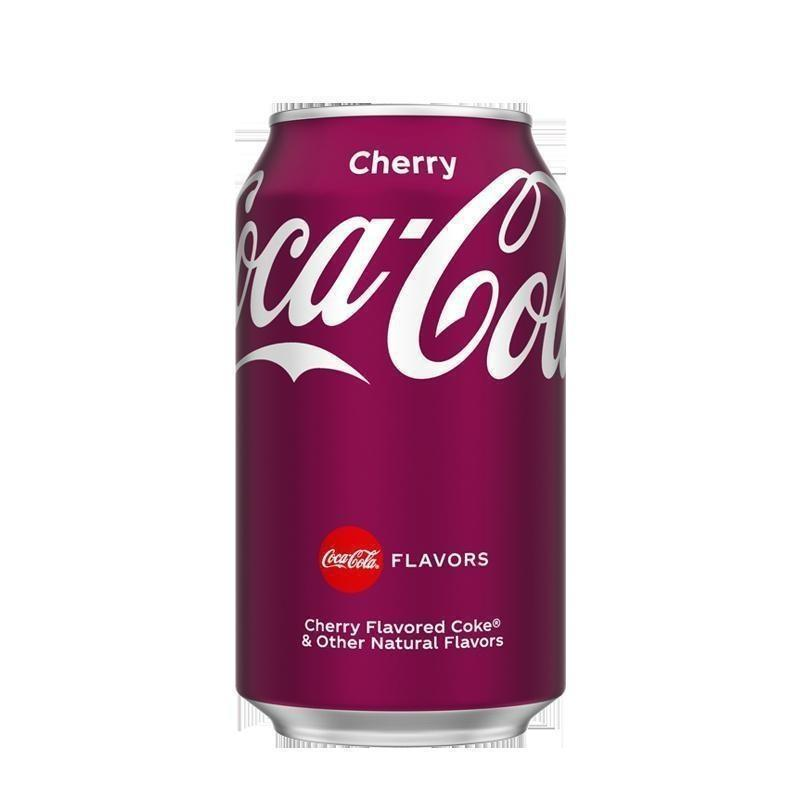tin can: (233, 100, 571, 749)
